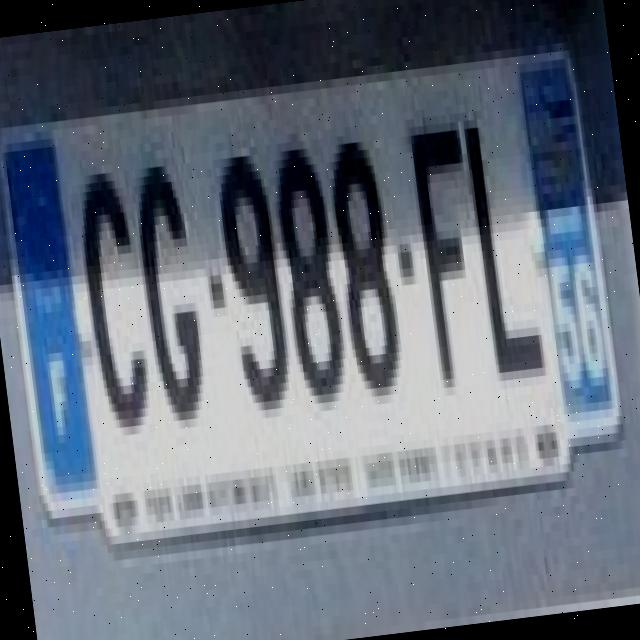EU: (0, 42, 629, 546)
France: (2, 142, 98, 491)
